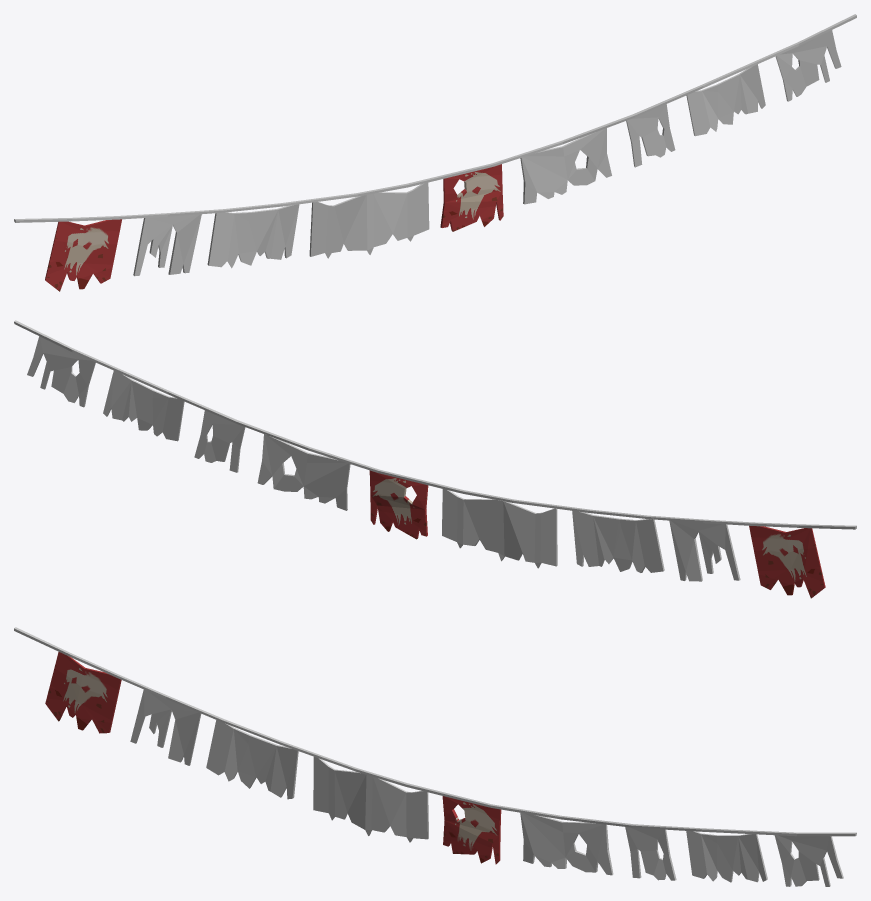
The model's file is SM_Prop_Bunting_03.fbx.
3 renders of one model, top to bottom at view 1: azimuth 30°, elevation 25°; view 2: azimuth 150°, elevation 25°; view 3: azimuth 330°, elevation 25°, orthographic.
Visible parts, largest first — view 1: SM_Prop_Bunting_03; view 2: SM_Prop_Bunting_03; view 3: SM_Prop_Bunting_03.
Boxes of the visible parts, <box> form: SM_Prop_Bunting_03: <box>14,14,856,291</box>; SM_Prop_Bunting_03: <box>14,320,856,598</box>; SM_Prop_Bunting_03: <box>14,627,856,886</box>.
Size of the model in its own units: 999 by 138 by 11.02.
